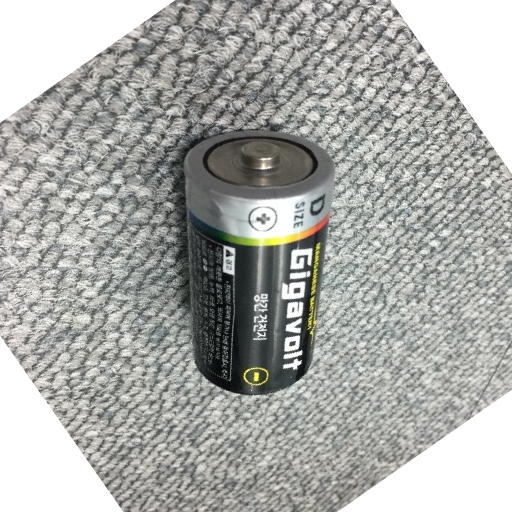Battery_0: (173, 117, 340, 401)
